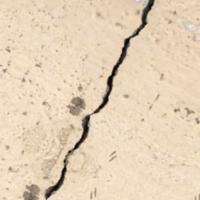crack: (38, 0, 165, 199)
